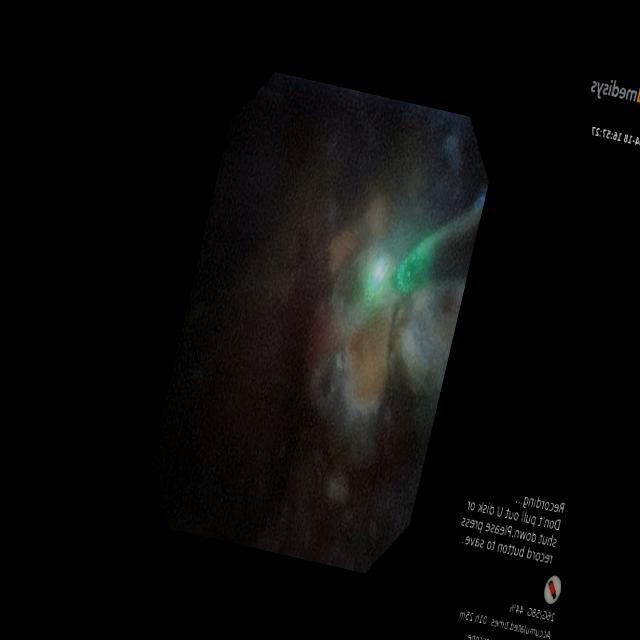laser-fibre: (393, 205, 482, 294)
laser_dot: (373, 262, 385, 283)
stone-new: (309, 247, 394, 456), (393, 280, 465, 428)
